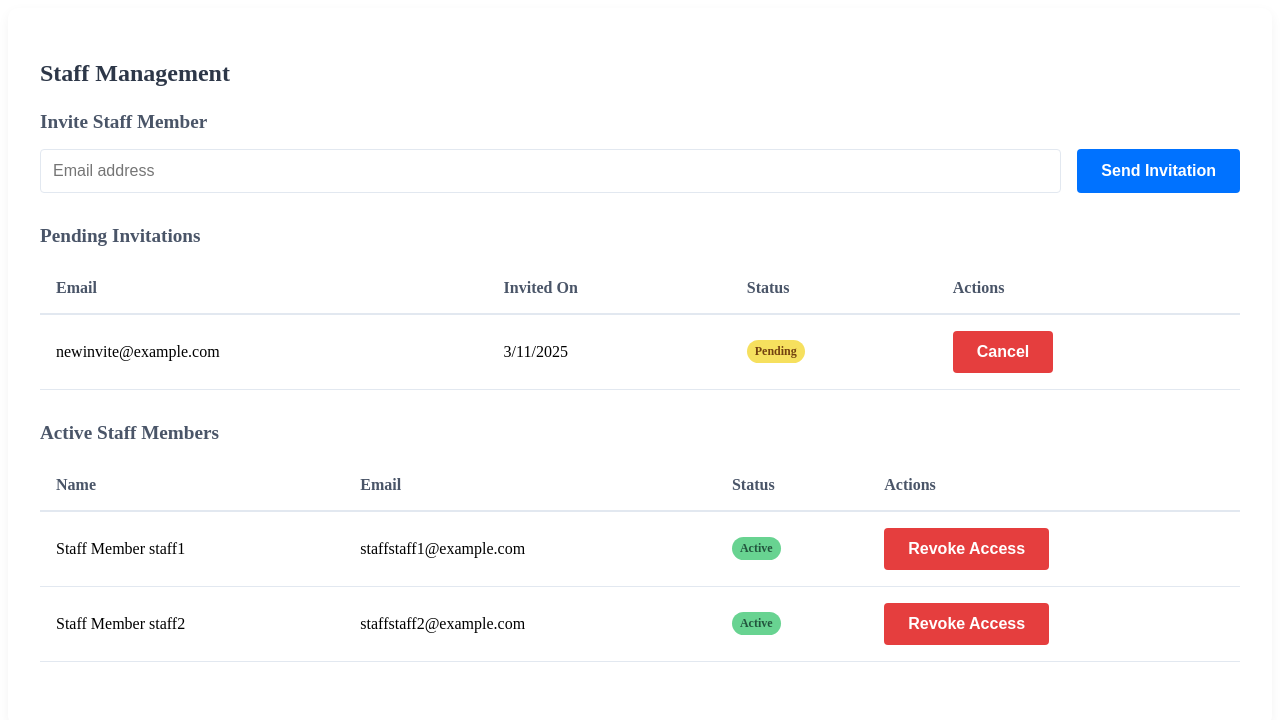
StaffManager Component › handles error when revoking staff access
# Click the revoke button
Click the button with test id "revoke-staff-staff1".
click(967, 549)  # box [884, 528, 1049, 570]
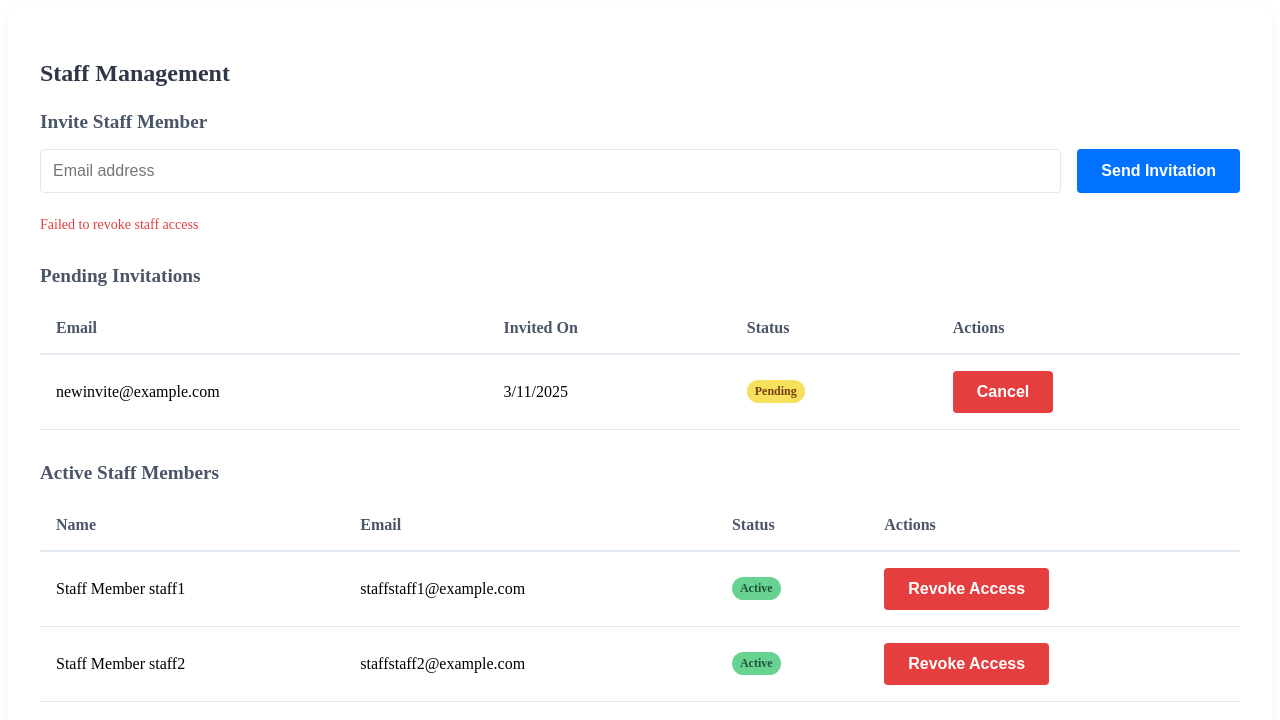
expect the text "Failed to revoke staff access" is shown: met, box [40, 217, 198, 232]
